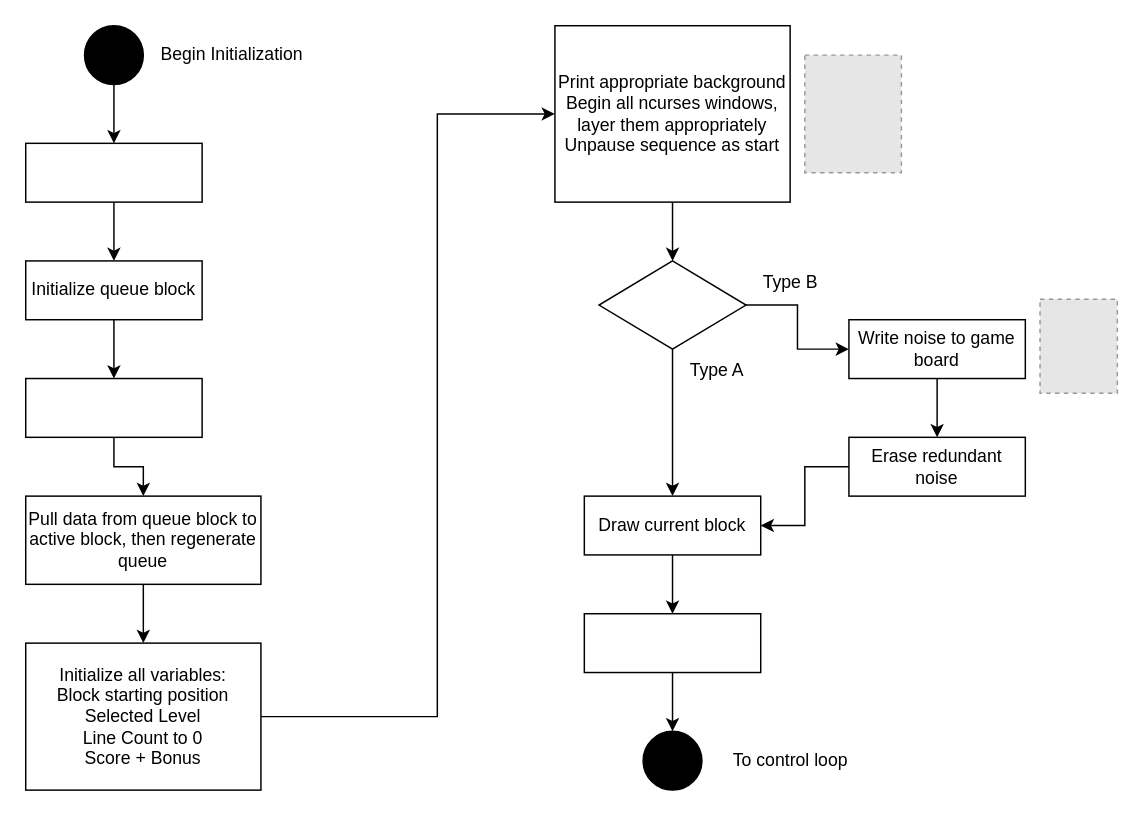
Image size: 1144x816. Some labels were removed from this diagram. Grey dashed boxes stand in for pictures. The box of each missing label's shape, as (x1, y1, x2, y2) in pixels:
Game Type?: (598, 259, 746, 349)
Generate queue block: (24, 377, 202, 437)
Initialize active block: (24, 142, 202, 202)
Register alarm, initialize it: (583, 612, 761, 673)
